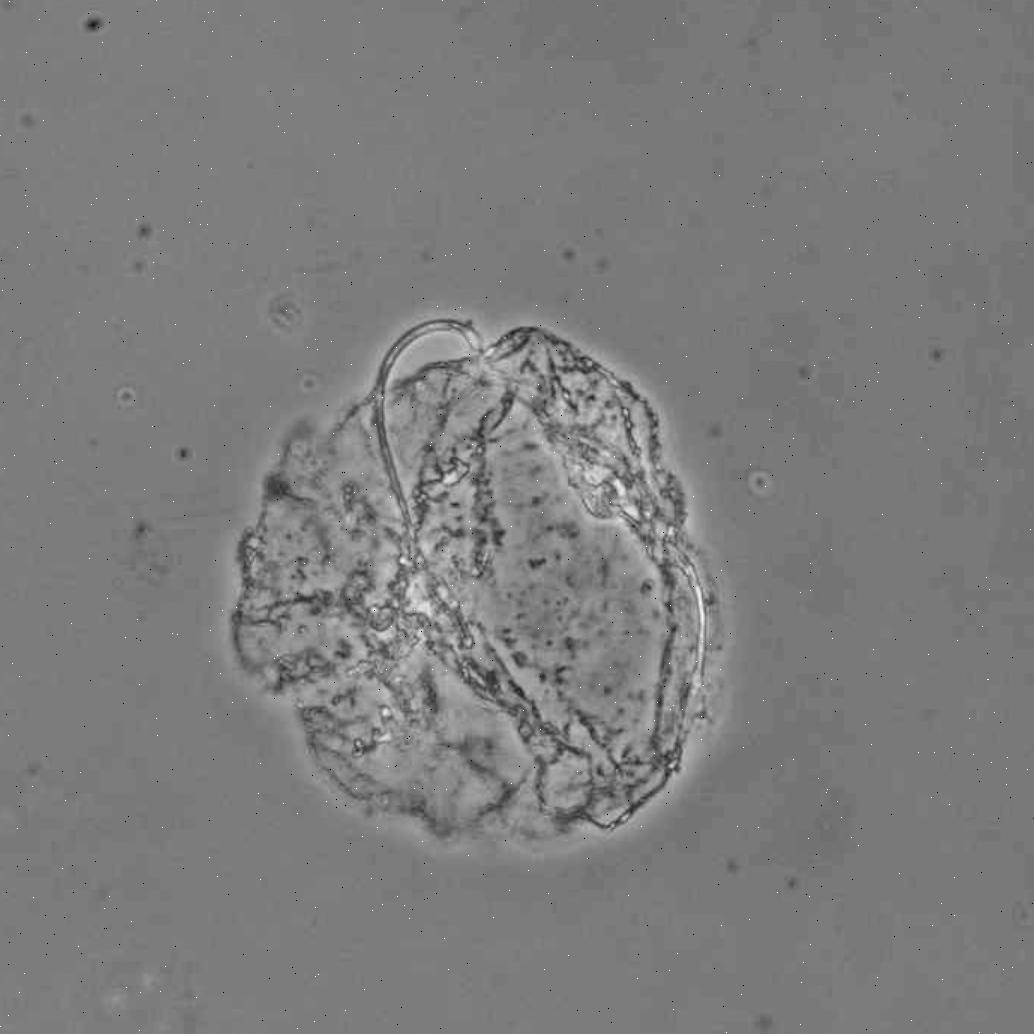noctilluca_scintillans: (226, 318, 728, 848)
